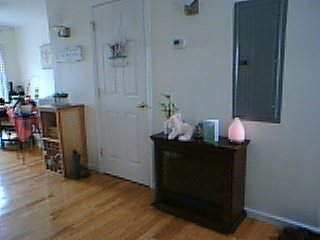piggy: (165, 113, 195, 142)
